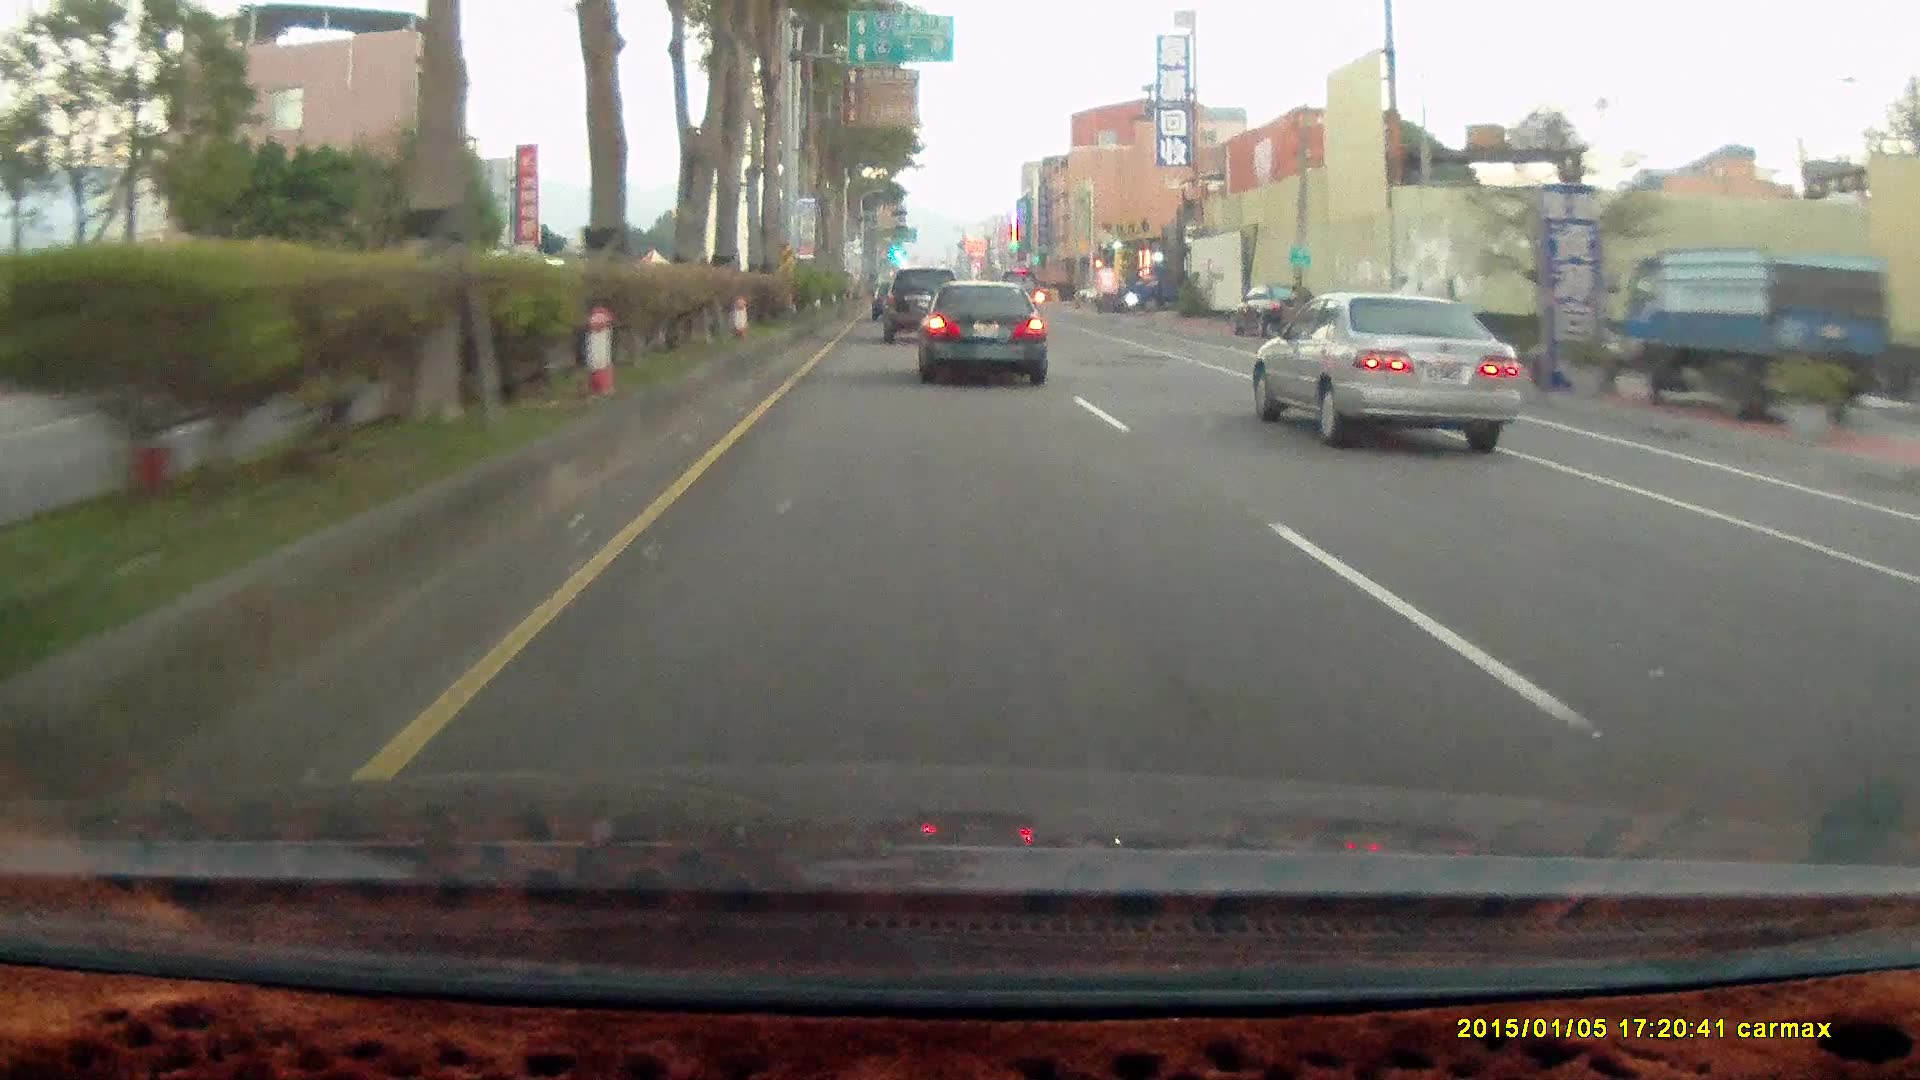vehicle: (1614, 248, 1890, 425), (1250, 291, 1523, 455), (1267, 297, 1538, 460), (914, 280, 1047, 385), (916, 286, 1048, 390), (882, 268, 963, 347), (1125, 268, 1203, 315)
